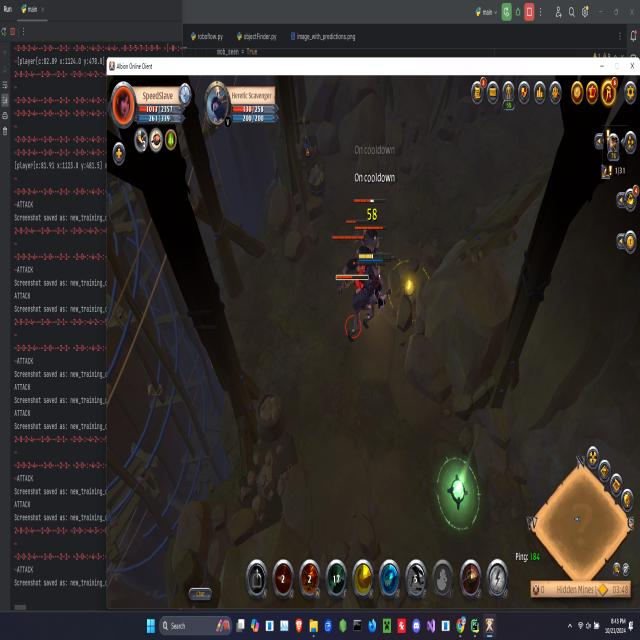ore: (334, 272, 372, 350), (344, 196, 384, 260), (330, 230, 366, 301)
red: (361, 252, 394, 316)
